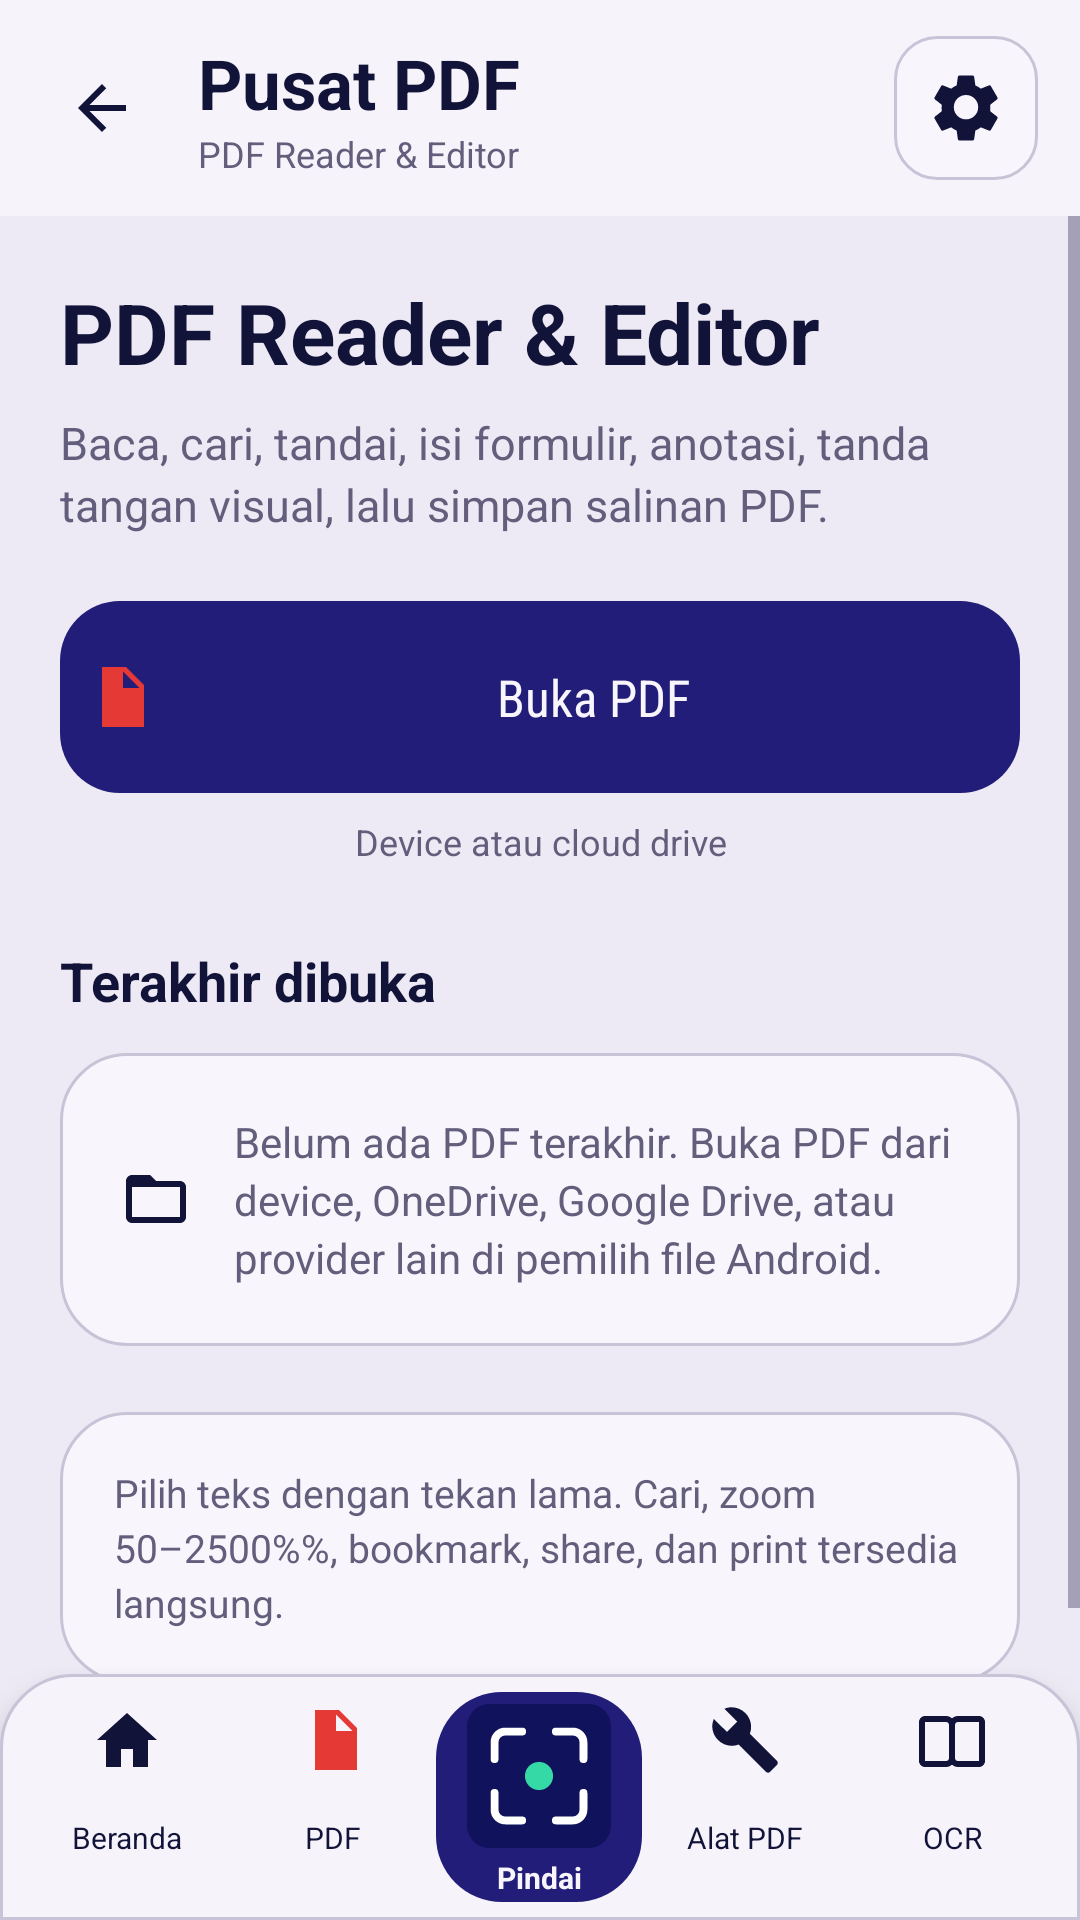

Icon click points for this 1080×1920 phone screenshot, format (x=x, y=y):
Kembali: (x=102, y=108)
Pengaturan: (x=966, y=108)
